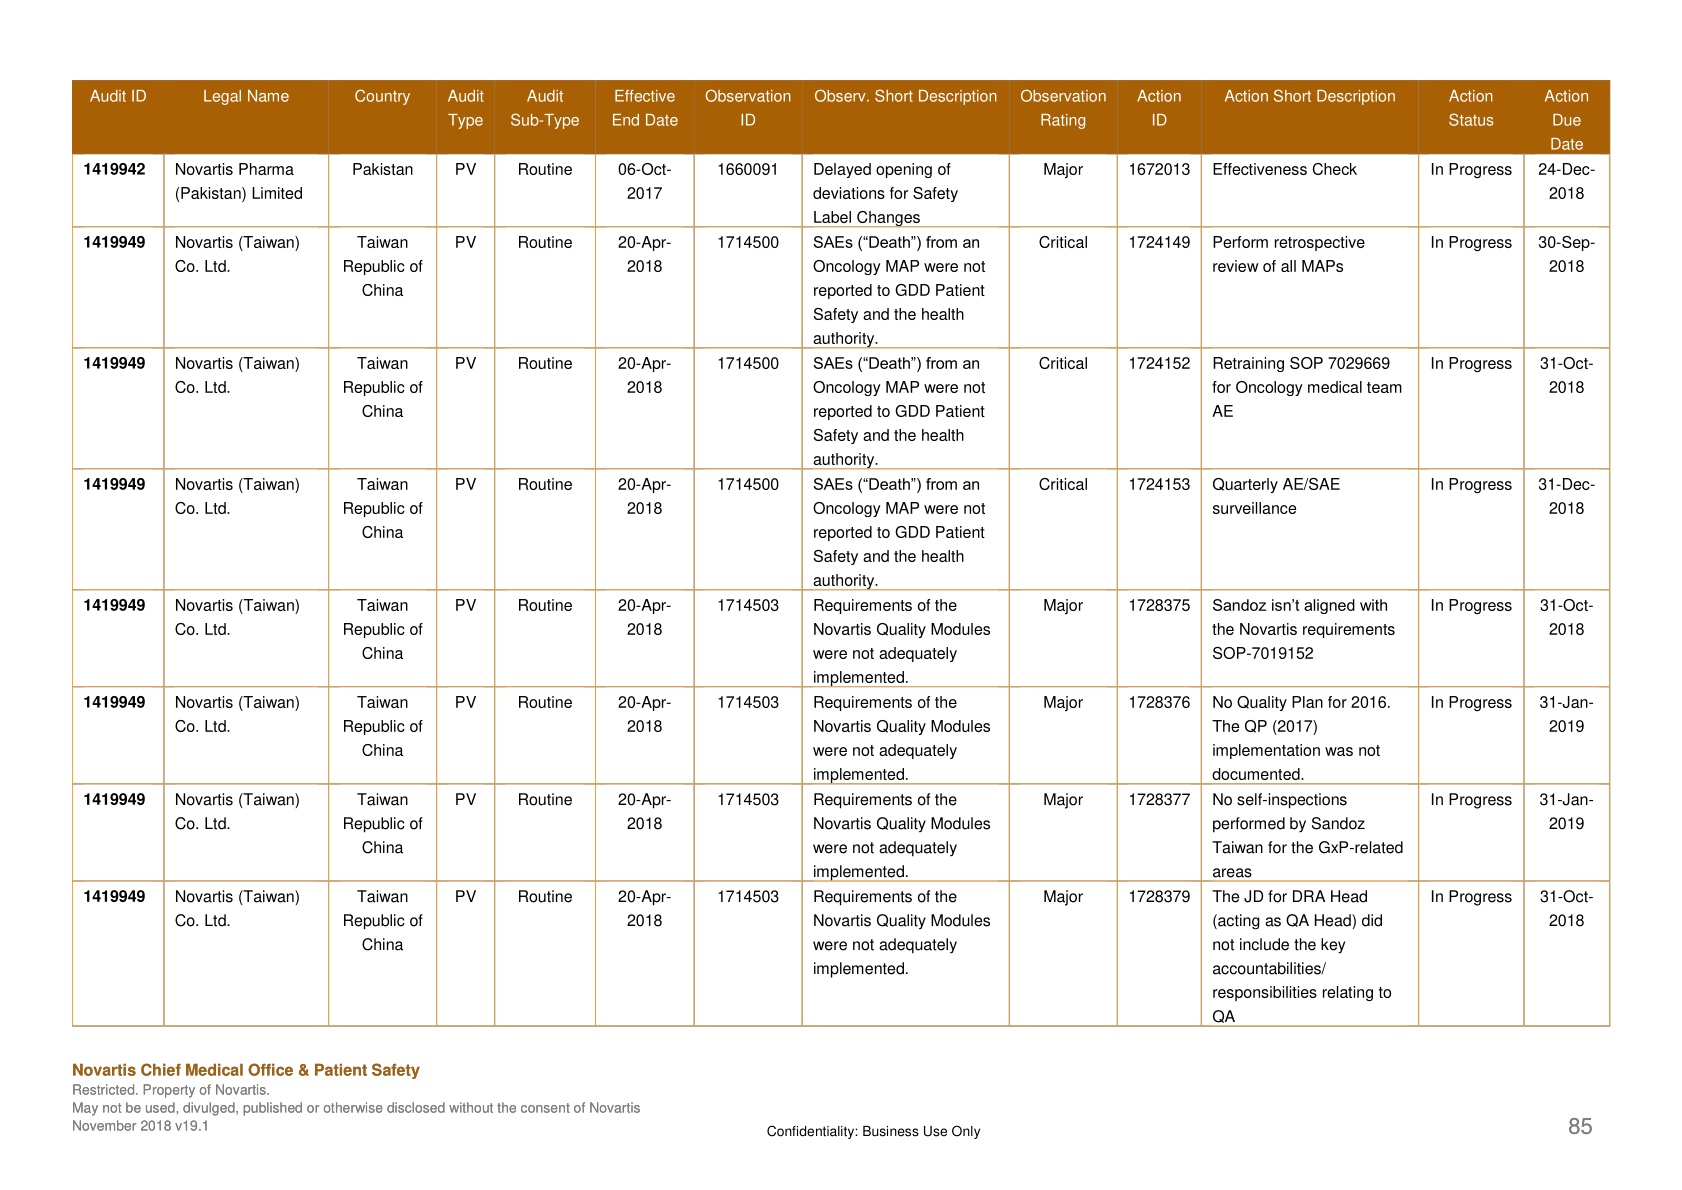full_lined: (72, 79, 1611, 1028)
